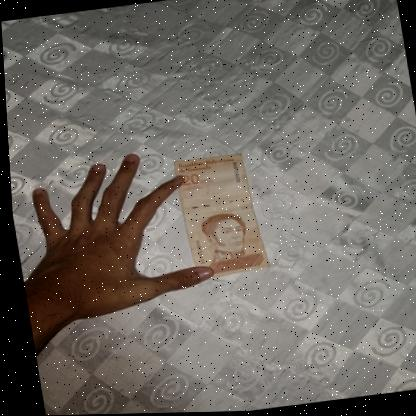twenty-front-vef: (170, 151, 266, 280)
